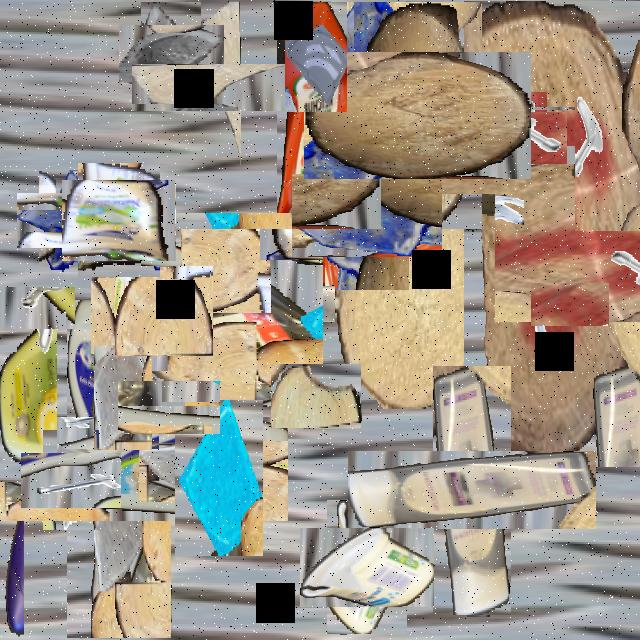glass: (175, 400, 263, 556), (308, 157, 426, 273), (130, 13, 212, 97), (285, 2, 347, 112), (94, 346, 152, 450), (324, 93, 402, 170), (28, 182, 106, 259)
metal: (32, 441, 110, 519), (485, 102, 557, 175), (0, 270, 59, 344), (540, 274, 600, 334)
plastic: (8, 359, 230, 580), (121, 221, 315, 415), (390, 409, 554, 572), (277, 2, 357, 286), (575, 43, 640, 231), (314, 513, 421, 621), (0, 304, 57, 482), (70, 172, 168, 270), (583, 54, 640, 162), (0, 386, 24, 638)
wood: (391, 74, 640, 395), (335, 194, 495, 407), (329, 27, 507, 204), (162, 32, 272, 142), (115, 266, 213, 356), (130, 368, 208, 446), (271, 364, 361, 428), (91, 260, 141, 366)
